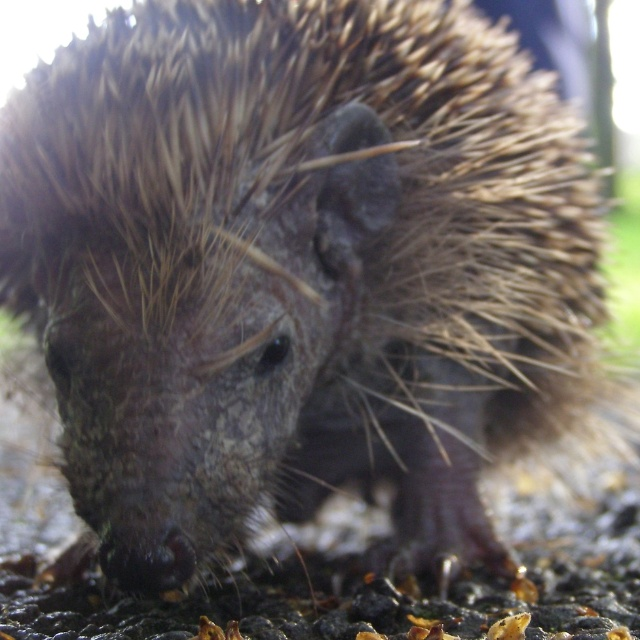Hedgehog: (0, 0, 640, 618)
